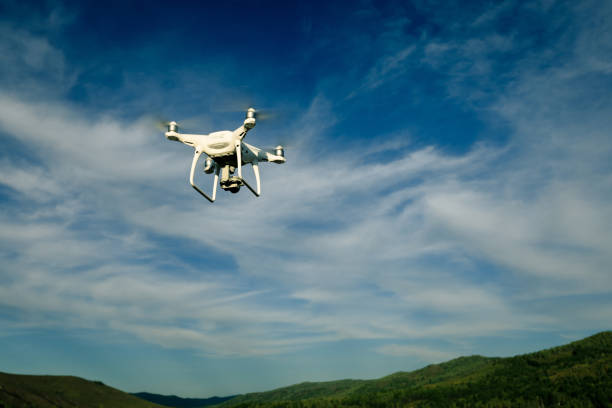Drone: (145, 97, 291, 208)
